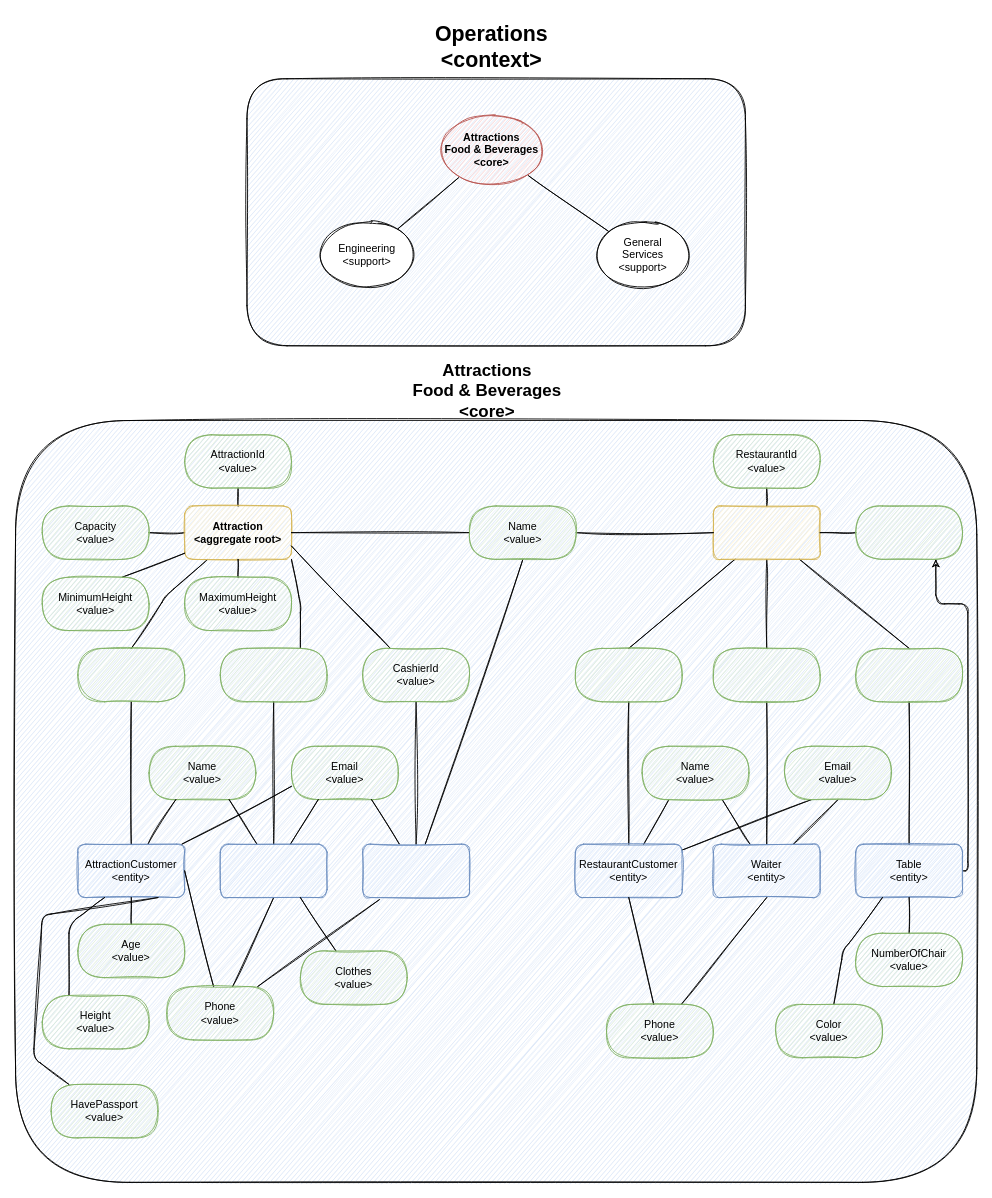
Image size: 992x1198. Some labels were removed from this diagram. Here are the shapes that lost their labels. From the top down, the centre of each, then its label:
At [766,532]: "Restaurant <aggregate root>".
At [909,532]: "Location <value>".
At [131,674]: "AttractionCustomerId <value>".
At [273,674]: "OperatorId <value>".
At [628,674]: "Restaurant CustomerId <value>".
At [766,674]: "WaiterId <value>".
At [909,674]: "TableId <value>".
At [273,870]: "Operator <entity>".
At [415,870]: "Cashier <entity>".
